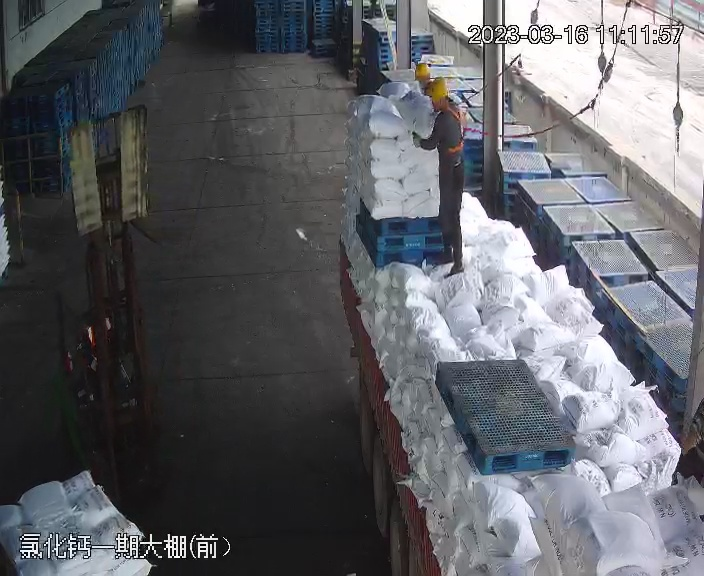belt: (428, 80, 469, 143), (440, 105, 472, 153)
head: (422, 78, 466, 132)
helmet: (425, 78, 449, 102), (413, 61, 432, 79)
people: (411, 77, 469, 276)
truck: (342, 53, 704, 576)
